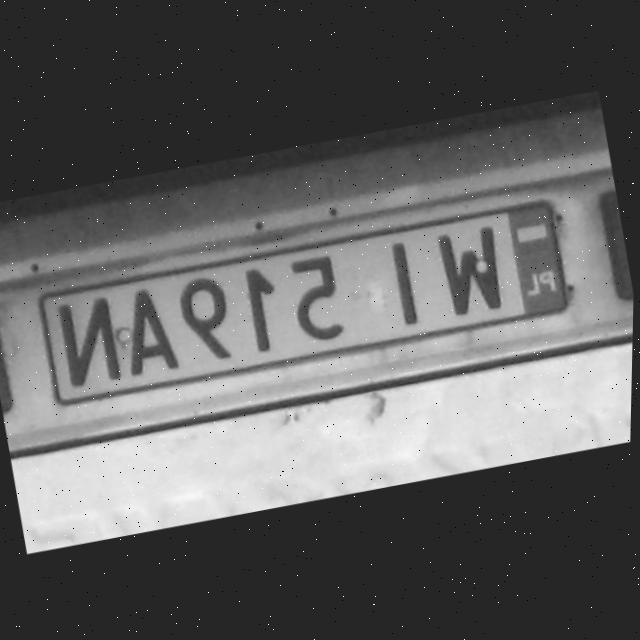license-plates: (39, 204, 568, 404)
